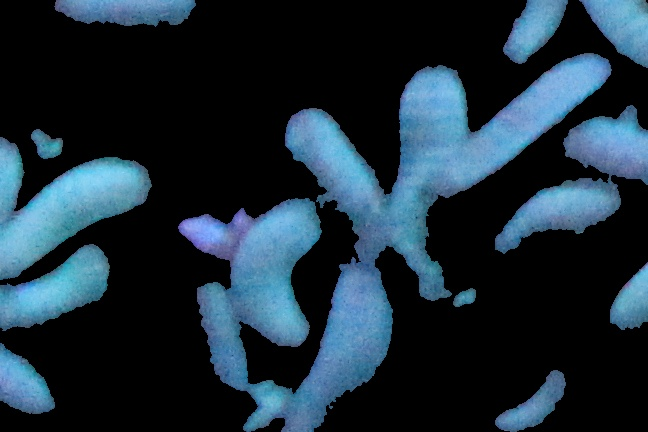larvae: (392, 61, 481, 299), (449, 54, 605, 182), (299, 256, 397, 432), (1, 157, 148, 270), (288, 110, 392, 259), (232, 205, 322, 352), (491, 179, 623, 265), (1, 246, 111, 335), (189, 283, 252, 401), (564, 111, 648, 186), (489, 363, 568, 431), (50, 1, 198, 35), (575, 1, 648, 69), (1, 335, 61, 416), (502, 1, 572, 65)
